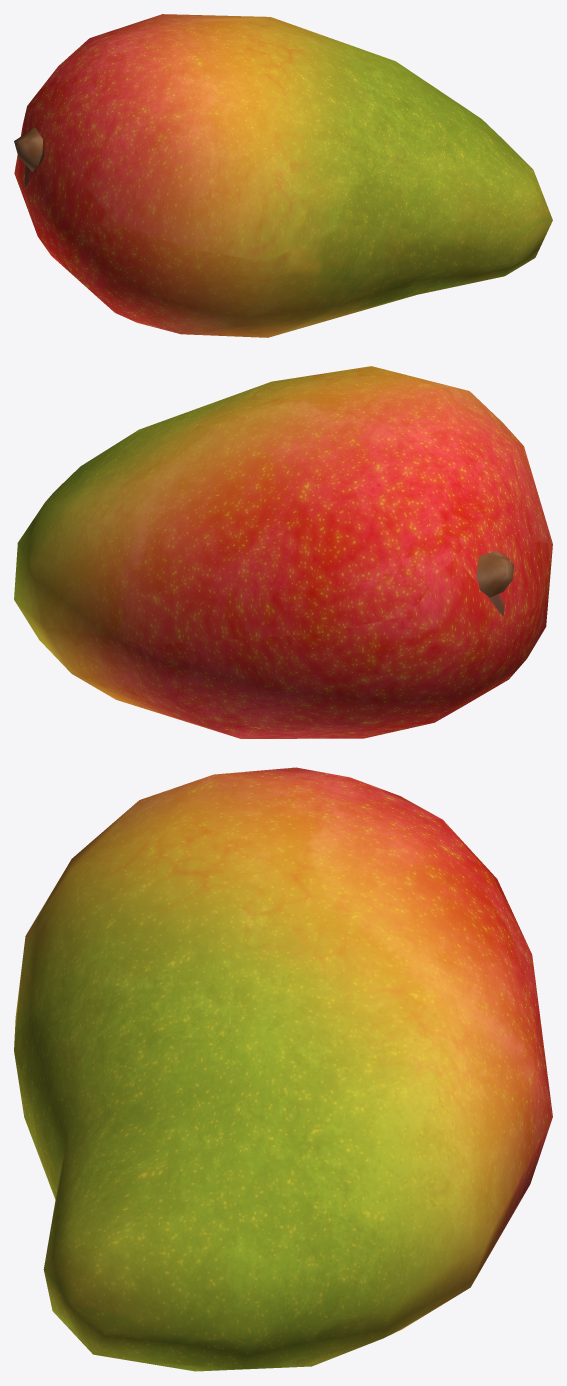
File: Mango_FBX.fbx
The picture shows the model from 3 angles, top to bottom: view 1: azimuth 30°, elevation 25°; view 2: azimuth 150°, elevation 25°; view 3: azimuth 270°, elevation 25°; orthographic projection. The views are drawn at different scales.
Visible parts, largest first — view 1: Mango; view 2: Mango; view 3: Mango.
Boxes of the visible parts, x1,y1,x2,y2 form: Mango: (14, 14, 552, 337); Mango: (14, 366, 552, 738); Mango: (14, 767, 552, 1371).
Bounding box in the file's own units: 4.13 × 2.56 × 2.91.
1 material, 1 textured.
